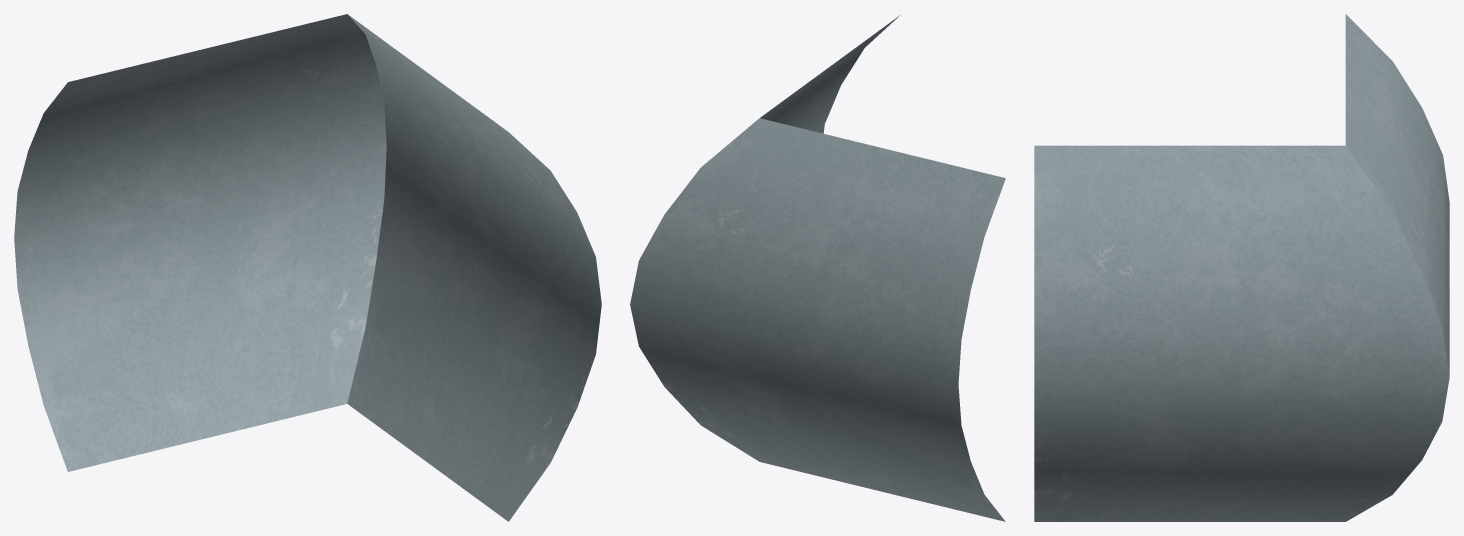
File: BasicWall_InsideCorner.fbx
The picture shows the model from 3 angles, left to right: view 1: azimuth 30°, elevation 25°; view 2: azimuth 150°, elevation 25°; view 3: azimuth 270°, elevation 25°; orthographic projection. The views are drawn at different scales.
Parts seen in each view (by area): view 1: pPlane3; view 2: pPlane3; view 3: pPlane3.
Boxes of the visible parts, bbox=[...] form: pPlane3: bbox=[14, 14, 601, 521]; pPlane3: bbox=[630, 15, 1005, 521]; pPlane3: bbox=[1034, 14, 1449, 521].
Size of the model in its own units: 4 by 4 by 4.
